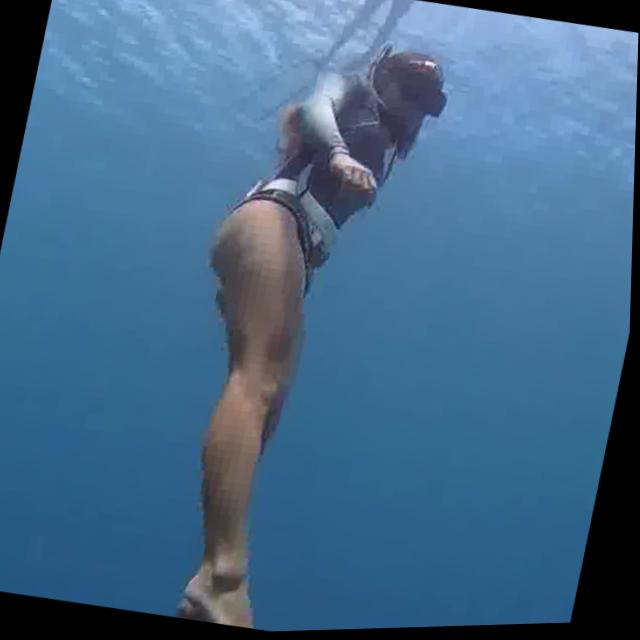human: (132, 11, 489, 637)
